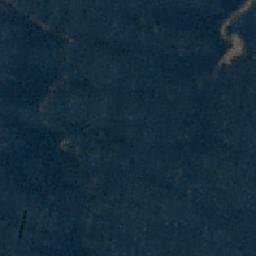debris: (225, 34, 244, 57), (219, 13, 239, 29), (239, 1, 253, 13), (213, 59, 228, 70), (219, 27, 230, 38)
